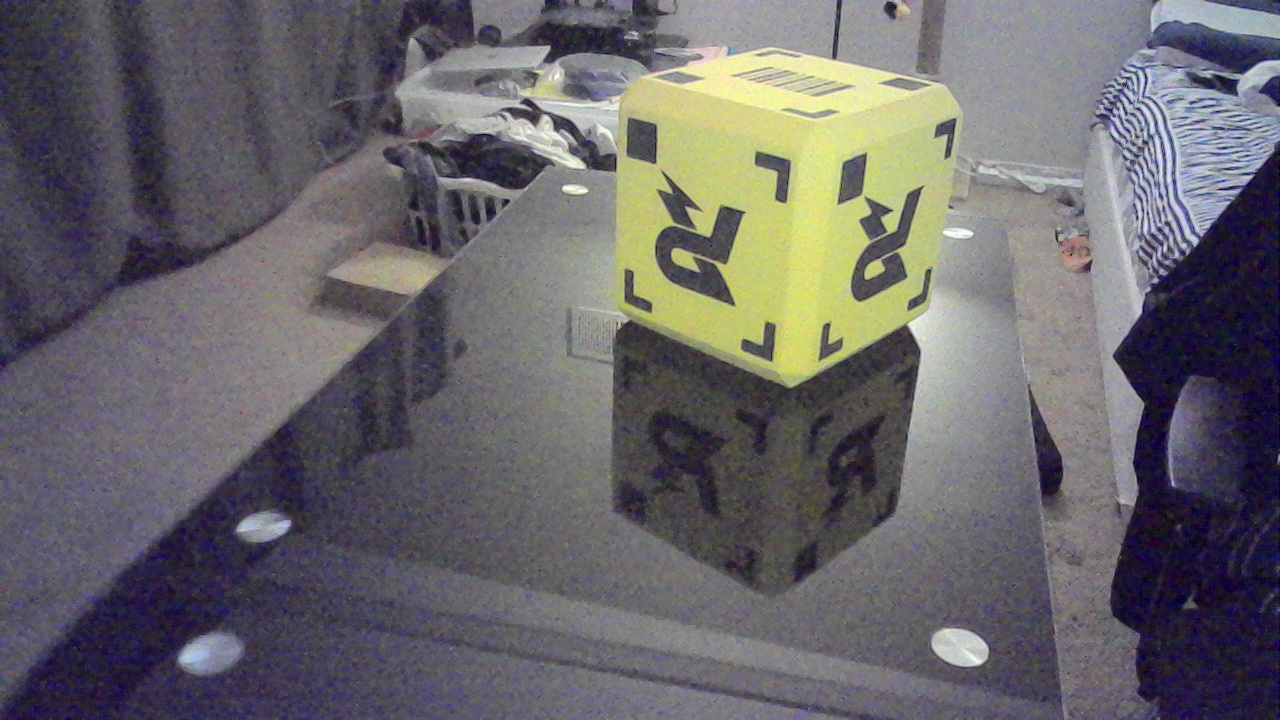Barcode: (740, 65, 853, 103)
R: (650, 184, 763, 305), (853, 202, 927, 306)
